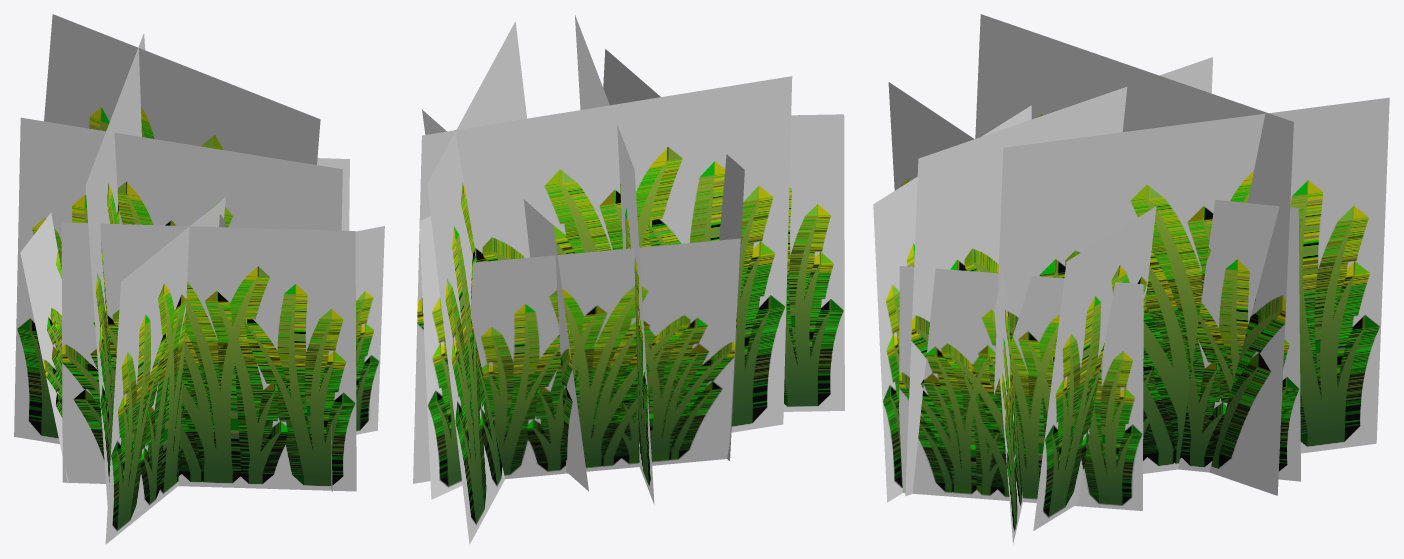
Rendered from low_grass_12.gltf.
3 renders of one model, left to right at view 1: azimuth 30°, elevation 25°; view 2: azimuth 150°, elevation 25°; view 3: azimuth 270°, elevation 25°, orthographic. The views are drawn at different scales.
Parts seen in each view (by area): view 1: default; view 2: default; view 3: default.
Boxes of the visible parts, x1=… form: default: x1=14, y1=14, x2=384, y2=544; default: x1=413, y1=15, x2=844, y2=544; default: x1=873, y1=14, x2=1389, y2=544.
Bounding box in the file's own units: 0.8227 × 0.8109 × 1.04.
Materials: 1 (1 with a texture image).
